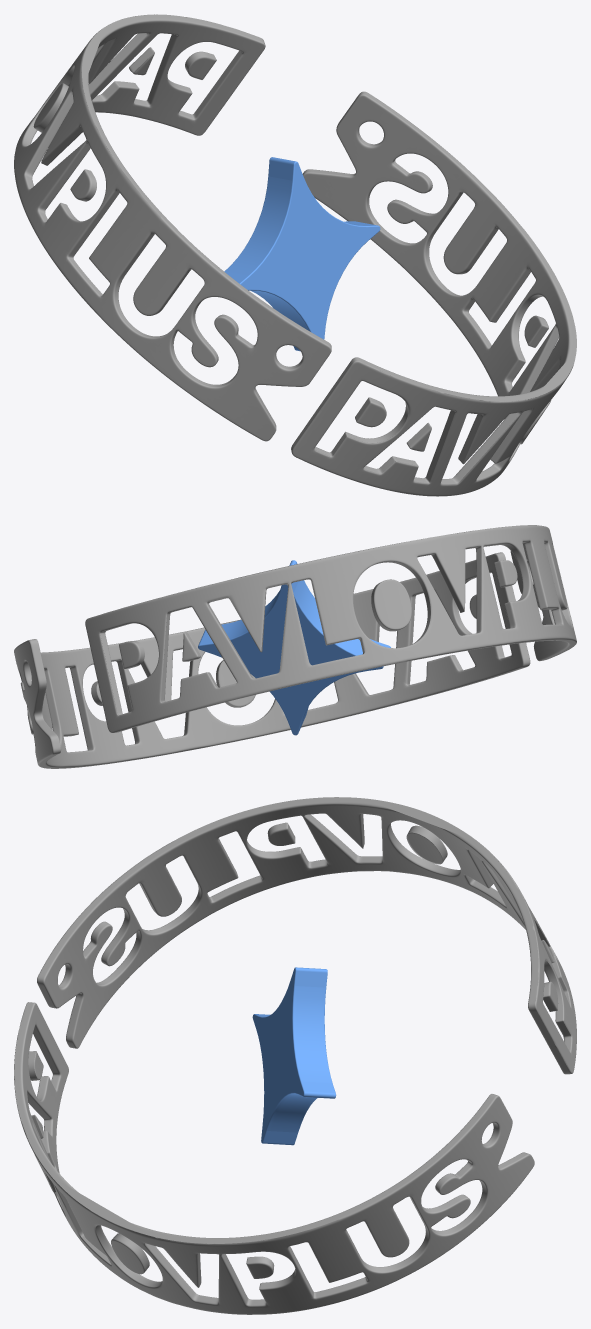
3 views of the same model, one above another, from view 1: azimuth 30°, elevation 25°; view 2: azimuth 150°, elevation 25°; view 3: azimuth 270°, elevation 25° (orthographic). The views are drawn at different scales.
Parts seen in each view (by area): view 1: Extrude_remesh, Extrude_remesh.001, STAR GLASS; view 2: Extrude_remesh, Extrude_remesh.001, STAR GLASS; view 3: Extrude_remesh.001, Extrude_remesh, STAR GLASS.
Boxes of the visible parts, <box> form: Extrude_remesh: <box>14,14,331,441</box>; Extrude_remesh.001: <box>291,91,576,496</box>; STAR GLASS: <box>224,157,380,351</box>; Extrude_remesh: <box>85,525,576,732</box>; Extrude_remesh.001: <box>14,552,530,768</box>; STAR GLASS: <box>198,560,390,735</box>; Extrude_remesh.001: <box>14,1002,534,1314</box>; Extrude_remesh: <box>37,797,576,1074</box>; STAR GLASS: <box>252,967,336,1145</box>.
Size of the model in its own units: 4.04 by 2.89 by 4.13.
